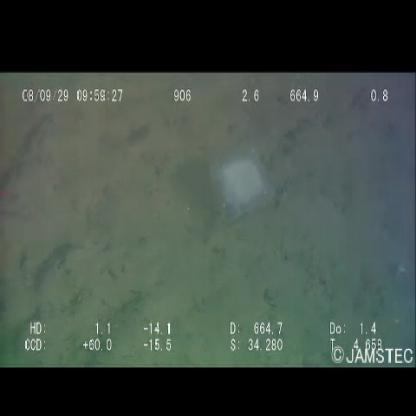Rác: (207, 142, 276, 220)
